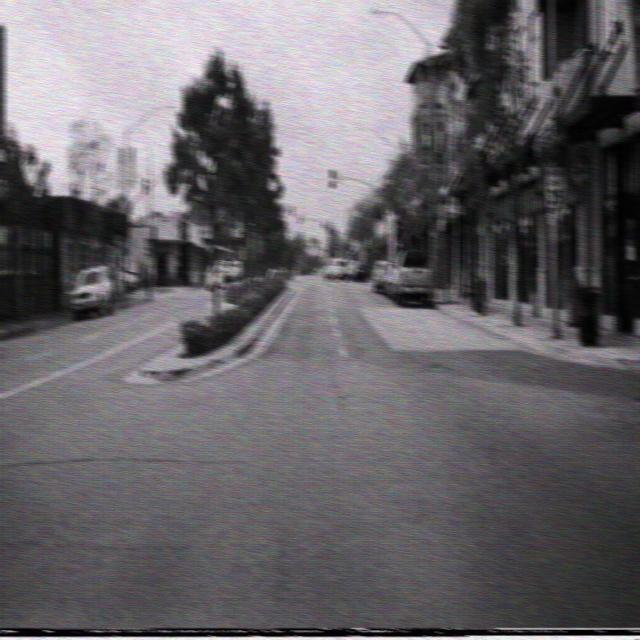speedLimit35: (544, 163, 566, 208)
